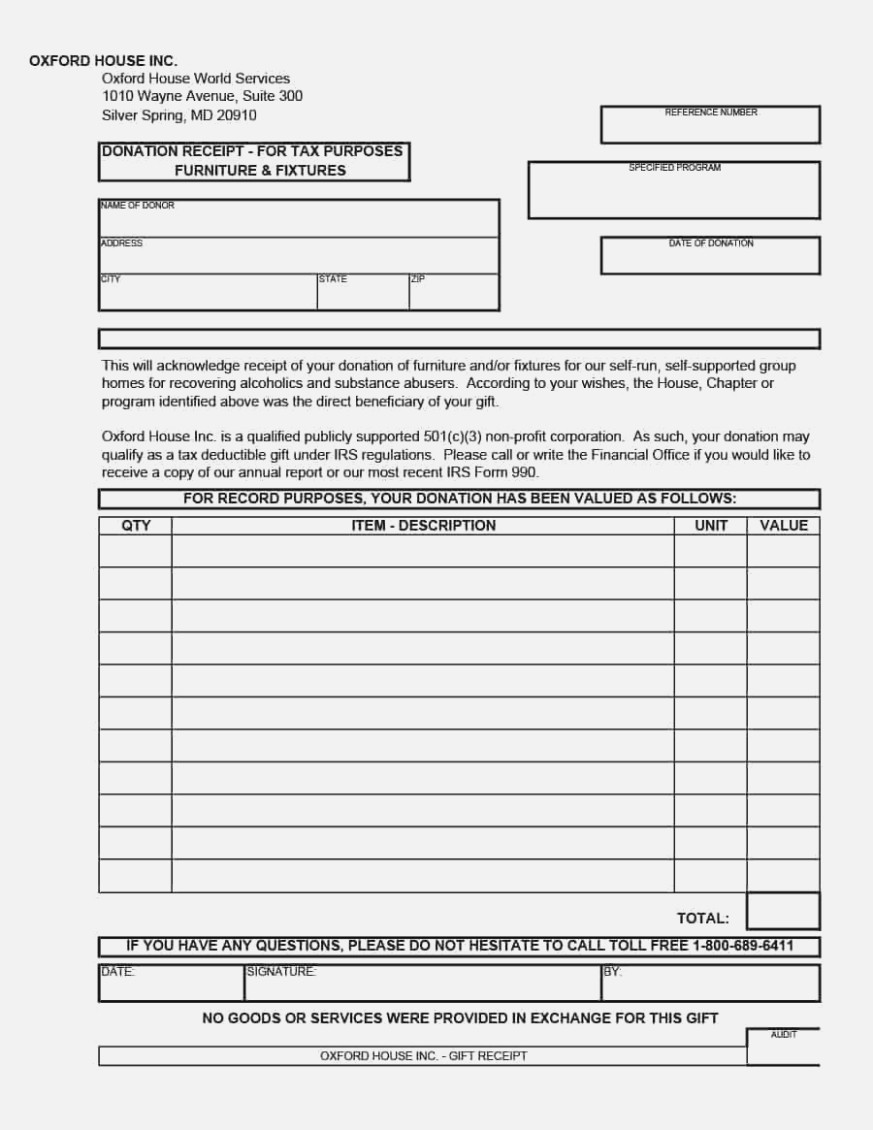textbox: (163, 529, 681, 575), (168, 558, 686, 604), (164, 592, 682, 638), (164, 625, 682, 671), (164, 657, 682, 703), (163, 690, 681, 736), (164, 722, 682, 768), (163, 755, 681, 801), (164, 788, 682, 834), (162, 819, 680, 865), (163, 852, 681, 898), (94, 185, 504, 242), (522, 155, 829, 226), (87, 232, 504, 281), (239, 956, 610, 1007), (594, 955, 825, 1008), (593, 100, 830, 149), (92, 268, 321, 317), (597, 232, 827, 278), (94, 958, 249, 1008), (311, 264, 415, 319), (401, 263, 504, 317), (668, 527, 756, 575), (667, 560, 755, 608), (667, 592, 755, 640), (668, 623, 756, 671), (668, 656, 756, 704), (668, 689, 756, 737), (669, 722, 757, 770), (667, 755, 755, 803), (667, 786, 755, 834), (667, 819, 755, 867), (666, 850, 754, 898), (738, 527, 826, 575), (739, 559, 827, 607), (740, 590, 828, 638), (739, 624, 827, 672), (739, 655, 827, 703), (739, 688, 827, 736), (740, 722, 828, 770), (738, 754, 826, 802), (741, 786, 829, 834), (740, 818, 828, 866), (737, 852, 825, 900), (741, 886, 825, 934), (90, 529, 177, 572), (91, 561, 178, 604), (92, 594, 179, 637), (92, 626, 179, 669), (89, 659, 176, 702), (92, 691, 179, 734), (91, 723, 178, 766), (91, 755, 178, 798), (91, 789, 178, 832), (92, 820, 179, 863), (91, 854, 178, 897), (744, 1021, 821, 1069)
